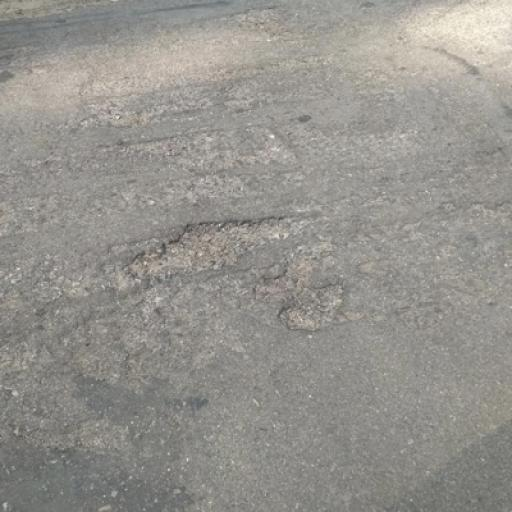pothole: (123, 214, 305, 280), (276, 280, 347, 332)
